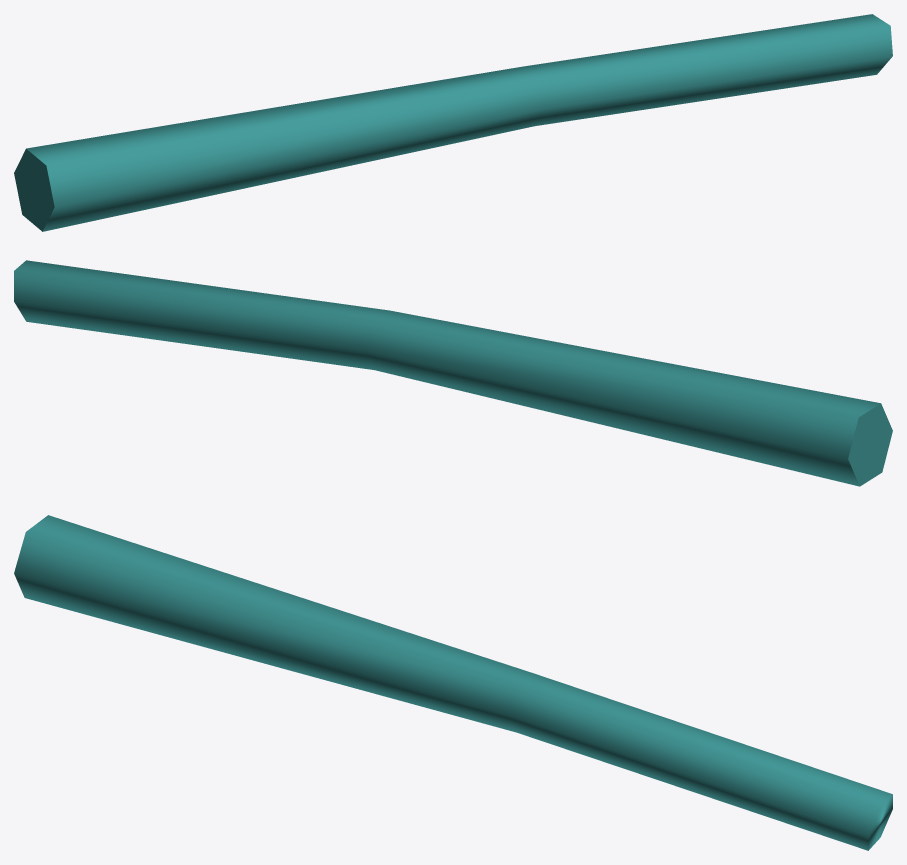
The model's file is brunch_1.FBX.
The picture shows the model from 3 angles, top to bottom: view 1: azimuth 30°, elevation 25°; view 2: azimuth 150°, elevation 25°; view 3: azimuth 330°, elevation 25°; orthographic projection.
Parts seen in each view (by area): view 1: brunch_1; view 2: brunch_1; view 3: brunch_1.
Part boxes in pixels (box(x1,y1,x2,y2)): brunch_1: box(14, 14, 892, 231); brunch_1: box(14, 260, 892, 486); brunch_1: box(14, 515, 892, 850).
Bounding box in the file's own units: 1352 × 173 × 119.
